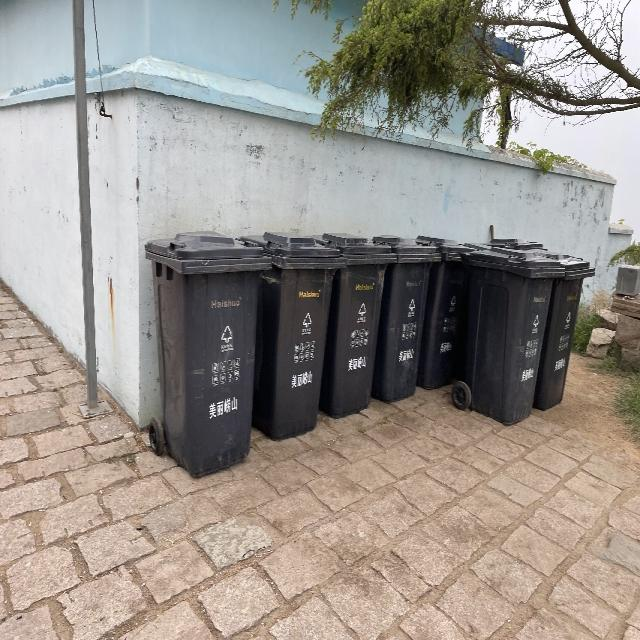garbage_bin: (144, 230, 271, 479), (235, 230, 343, 439), (461, 246, 564, 424), (310, 230, 398, 419), (371, 234, 440, 402), (536, 252, 595, 411), (415, 234, 463, 389)
